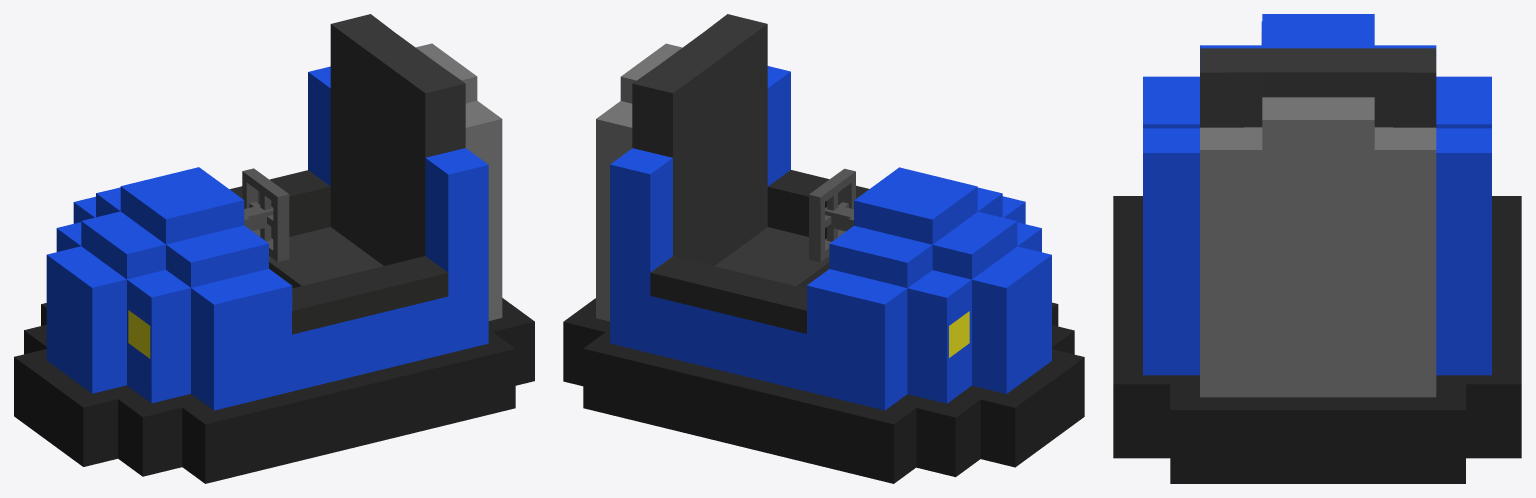
File: 파란 범퍼카.fbx
3 renders of one model, left to right at view 1: azimuth 30°, elevation 25°; view 2: azimuth 150°, elevation 25°; view 3: azimuth 270°, elevation 25°, orthographic. The views are drawn at different scales.
Visible parts, largest first — view 1: Box003; view 2: Box003; view 3: Box003.
Boxes of the visible parts, box(x1,y1,x2,y2) form: Box003: box(14, 14, 534, 483); Box003: box(563, 14, 1084, 483); Box003: box(1113, 14, 1521, 483).
Size of the model in its own units: 30 by 20.34 by 20.
Materials: 1 (1 with a texture image).
